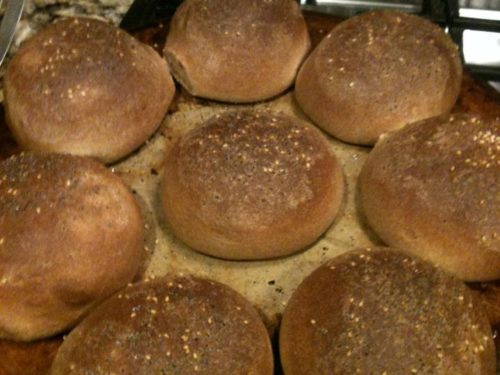hamburger_buns: (280, 221, 495, 375), (5, 15, 178, 177), (182, 104, 341, 253)
